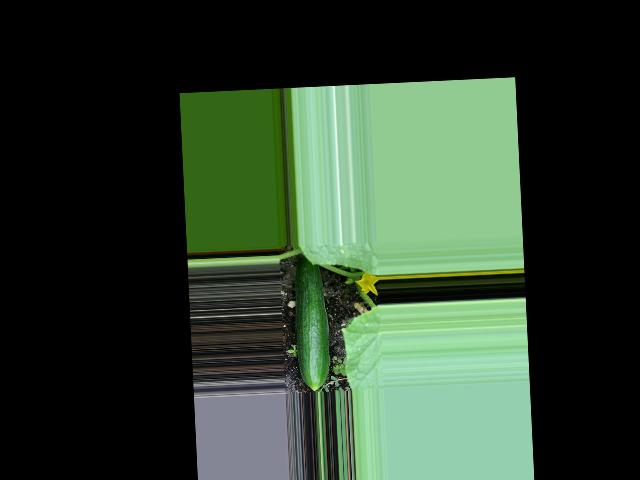cucumber: (291, 256, 331, 392)
